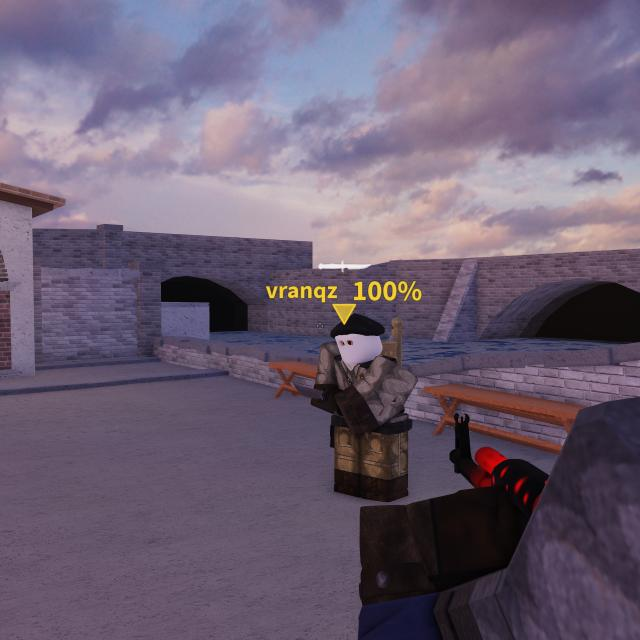Head: (333, 316, 383, 367)
Player: (310, 314, 417, 502)
